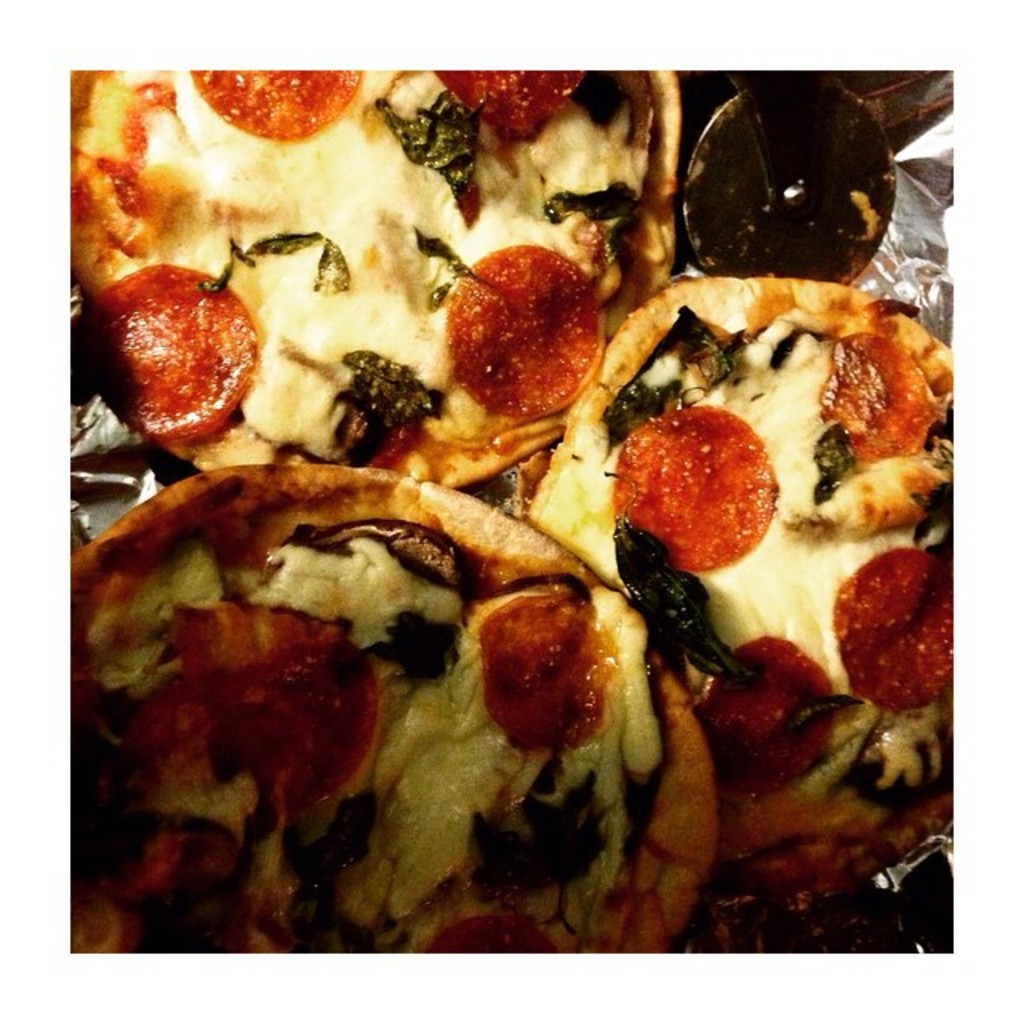Pizza: (71, 454, 731, 980), (496, 272, 964, 897), (65, 59, 696, 489)
